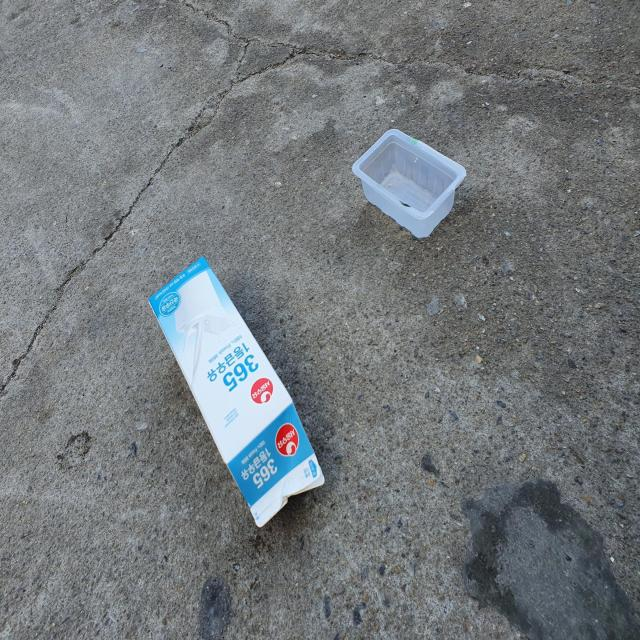paperpack: (149, 257, 324, 528)
plastic: (352, 128, 467, 238)
